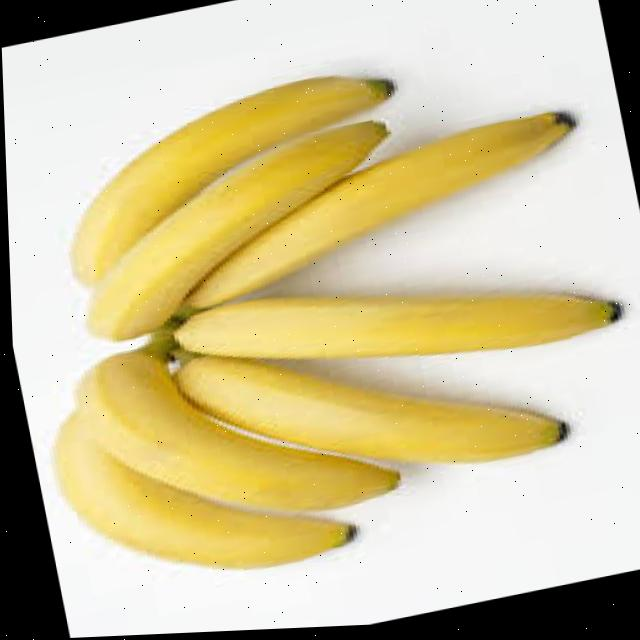Banana: (185, 117, 568, 308), (68, 79, 388, 283), (85, 125, 382, 341), (73, 352, 393, 512), (50, 413, 346, 570), (172, 358, 559, 466), (170, 298, 609, 358)
